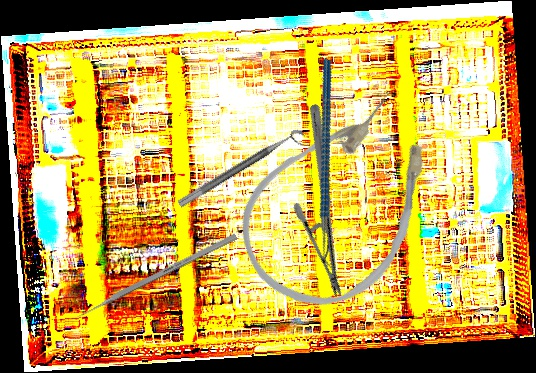Cannula: (212, 69, 473, 339)
Chopper: (255, 57, 405, 276)
Fixation Ring: (176, 126, 311, 219)
Needle Holder: (235, 102, 417, 299)
Pusher: (67, 232, 238, 325)
